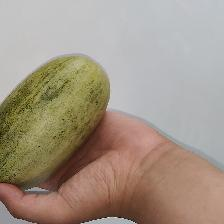gua: (12, 72, 73, 156)
